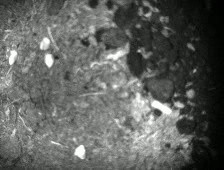corn: (72, 142, 88, 161), (42, 51, 56, 70), (7, 48, 19, 68), (38, 35, 51, 51)
